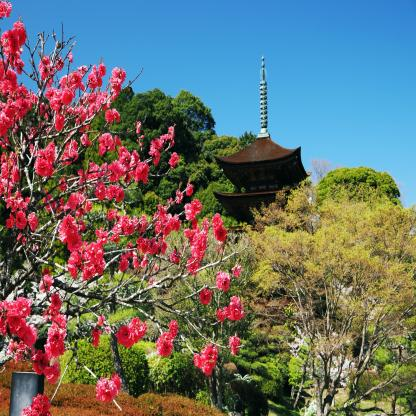Ume: (0, 0, 244, 416)
